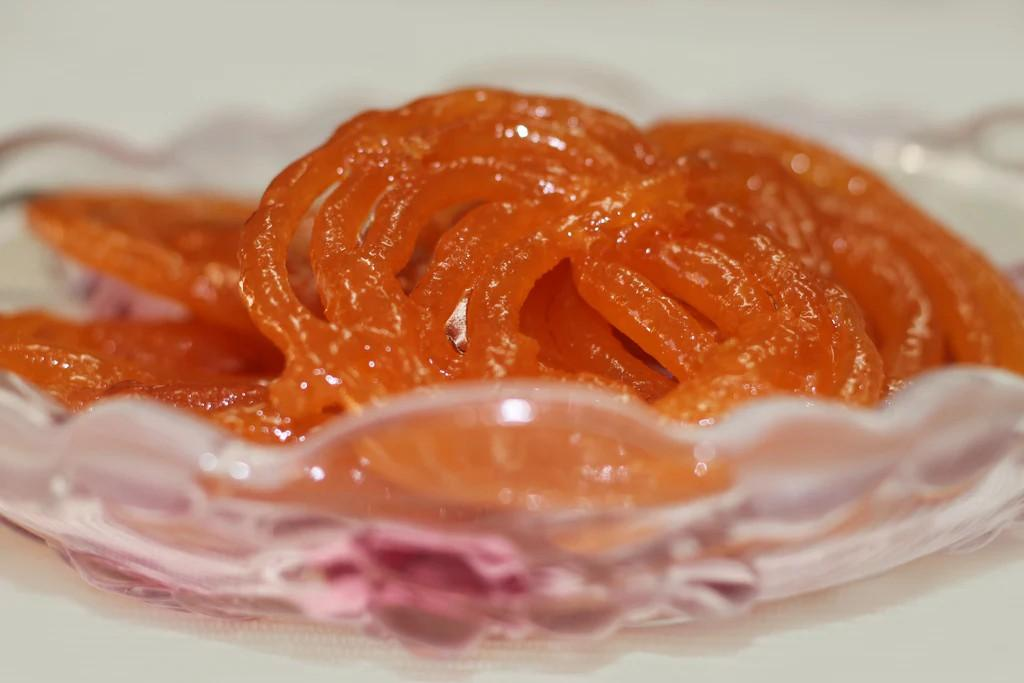Jalebi: (0, 83, 1023, 450)
